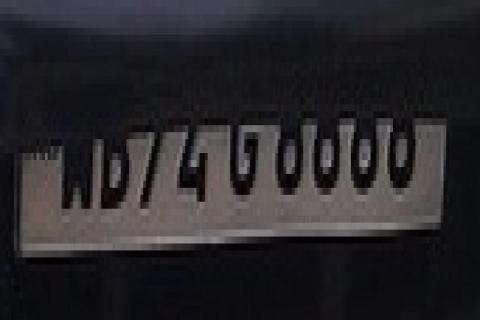LicensePlate: (15, 66, 449, 256)
